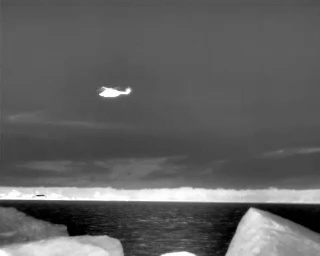HELICOPTER: (93, 80, 137, 103)
